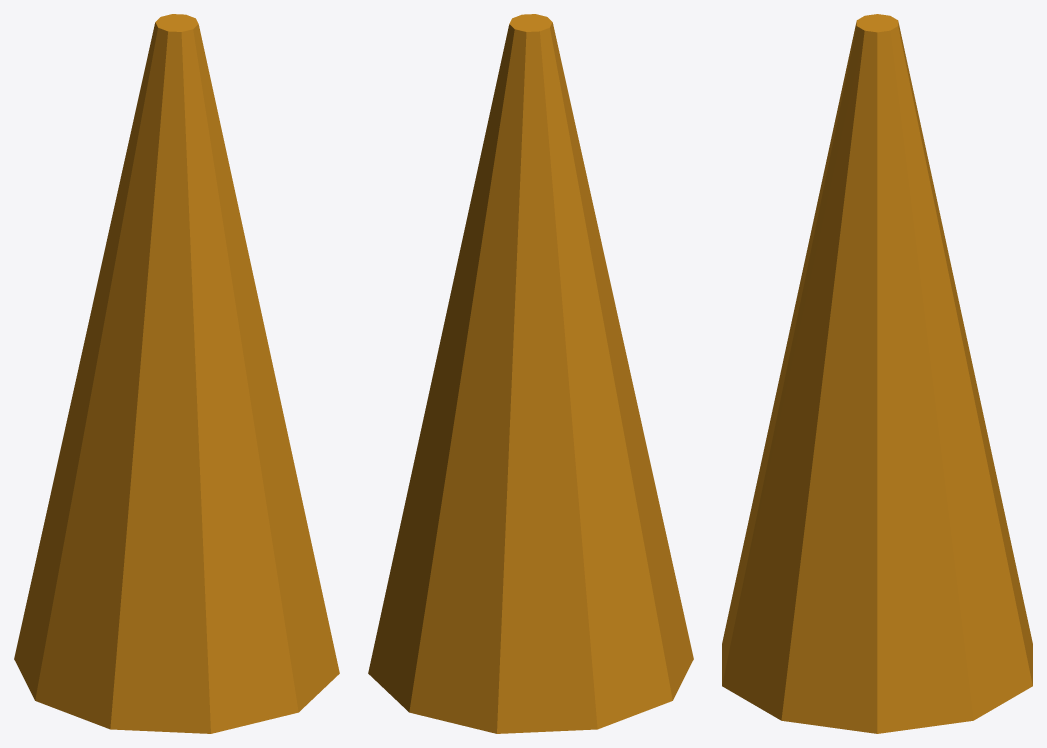
Rendered from Canopy_Top.obj.
3 views of the same model, side by side, from view 1: azimuth 30°, elevation 25°; view 2: azimuth 150°, elevation 25°; view 3: azimuth 270°, elevation 25° (orthographic).
Parts seen in each view (by area): view 1: Canopy_Top; view 2: Canopy_Top; view 3: Canopy_Top.
Part boxes in pixels (box(x1,y1,x2,y2)): Canopy_Top: box(14, 14, 339, 733); Canopy_Top: box(368, 14, 693, 733); Canopy_Top: box(722, 14, 1032, 733).
Bounding box in the file's own units: 0.3 × 0.65 × 0.2853.
